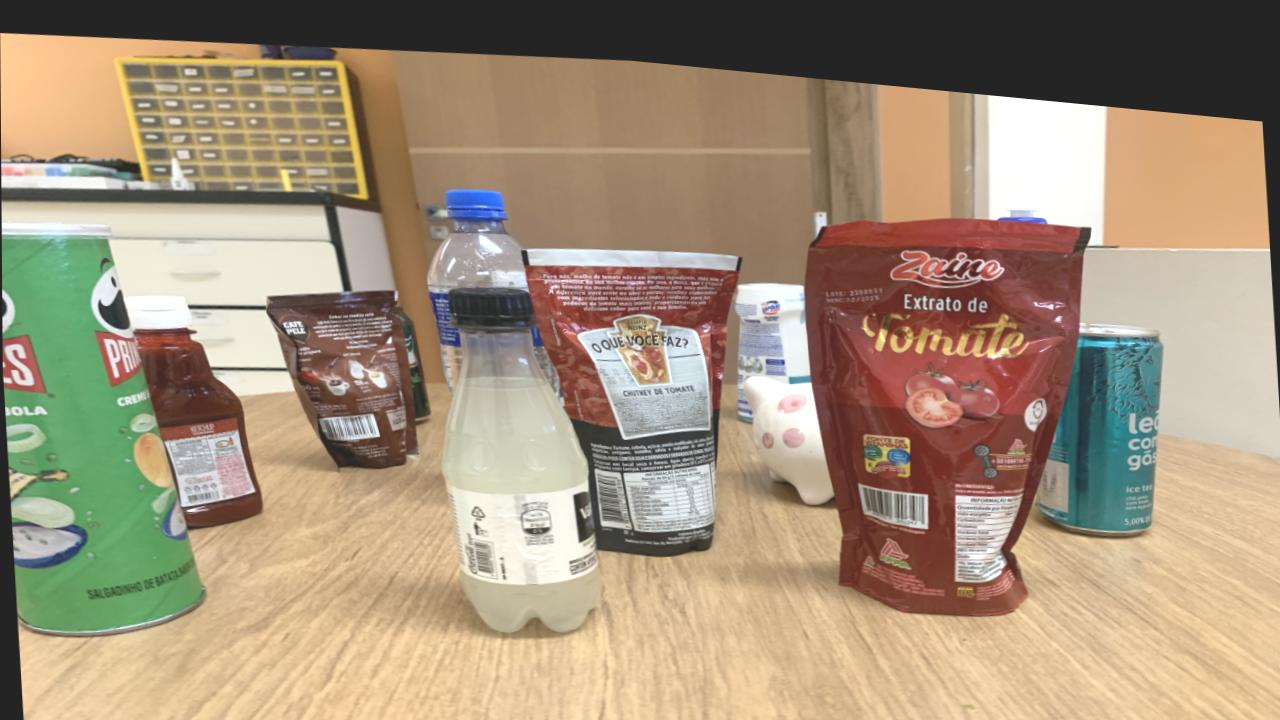Cleaner-Cleanup_Items: (732, 267, 809, 405)
Coffee-Pantry_Items: (267, 282, 417, 461)
Detergent-Cleanup_Items: (999, 186, 1046, 202)
Guarana_Can-Drinks: (396, 298, 430, 411)
Ketchup-Pantry_Items: (125, 292, 261, 524)
Pig_Safe-Miscellaneous: (742, 361, 833, 488)
Pringles-Snacks: (1, 224, 204, 634)
Soda-Drinks: (440, 277, 600, 621)
Tea-Drinks: (1035, 302, 1163, 512)
Tomato_Sauce-Pantry_Items: (804, 199, 1089, 595), (523, 237, 740, 542)
Water_Bottle-Drinks: (427, 181, 527, 380), (530, 321, 558, 384)
